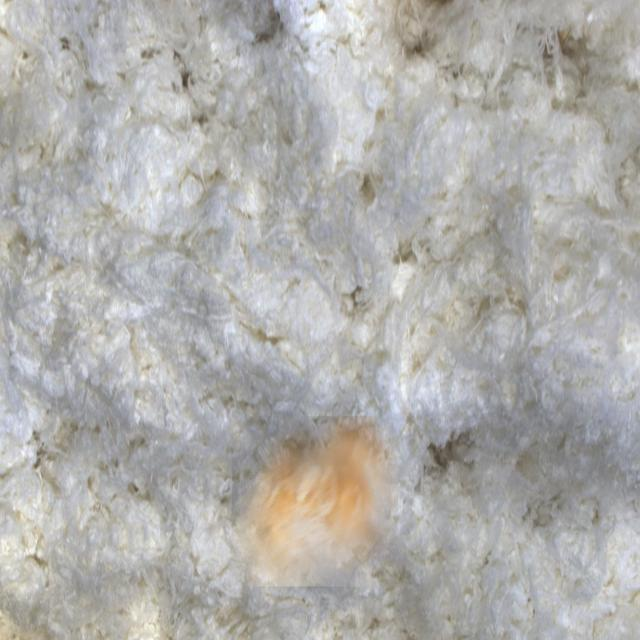dust: (232, 416, 398, 587)
